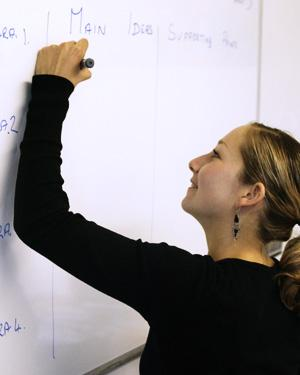person: (13, 38, 300, 375)
